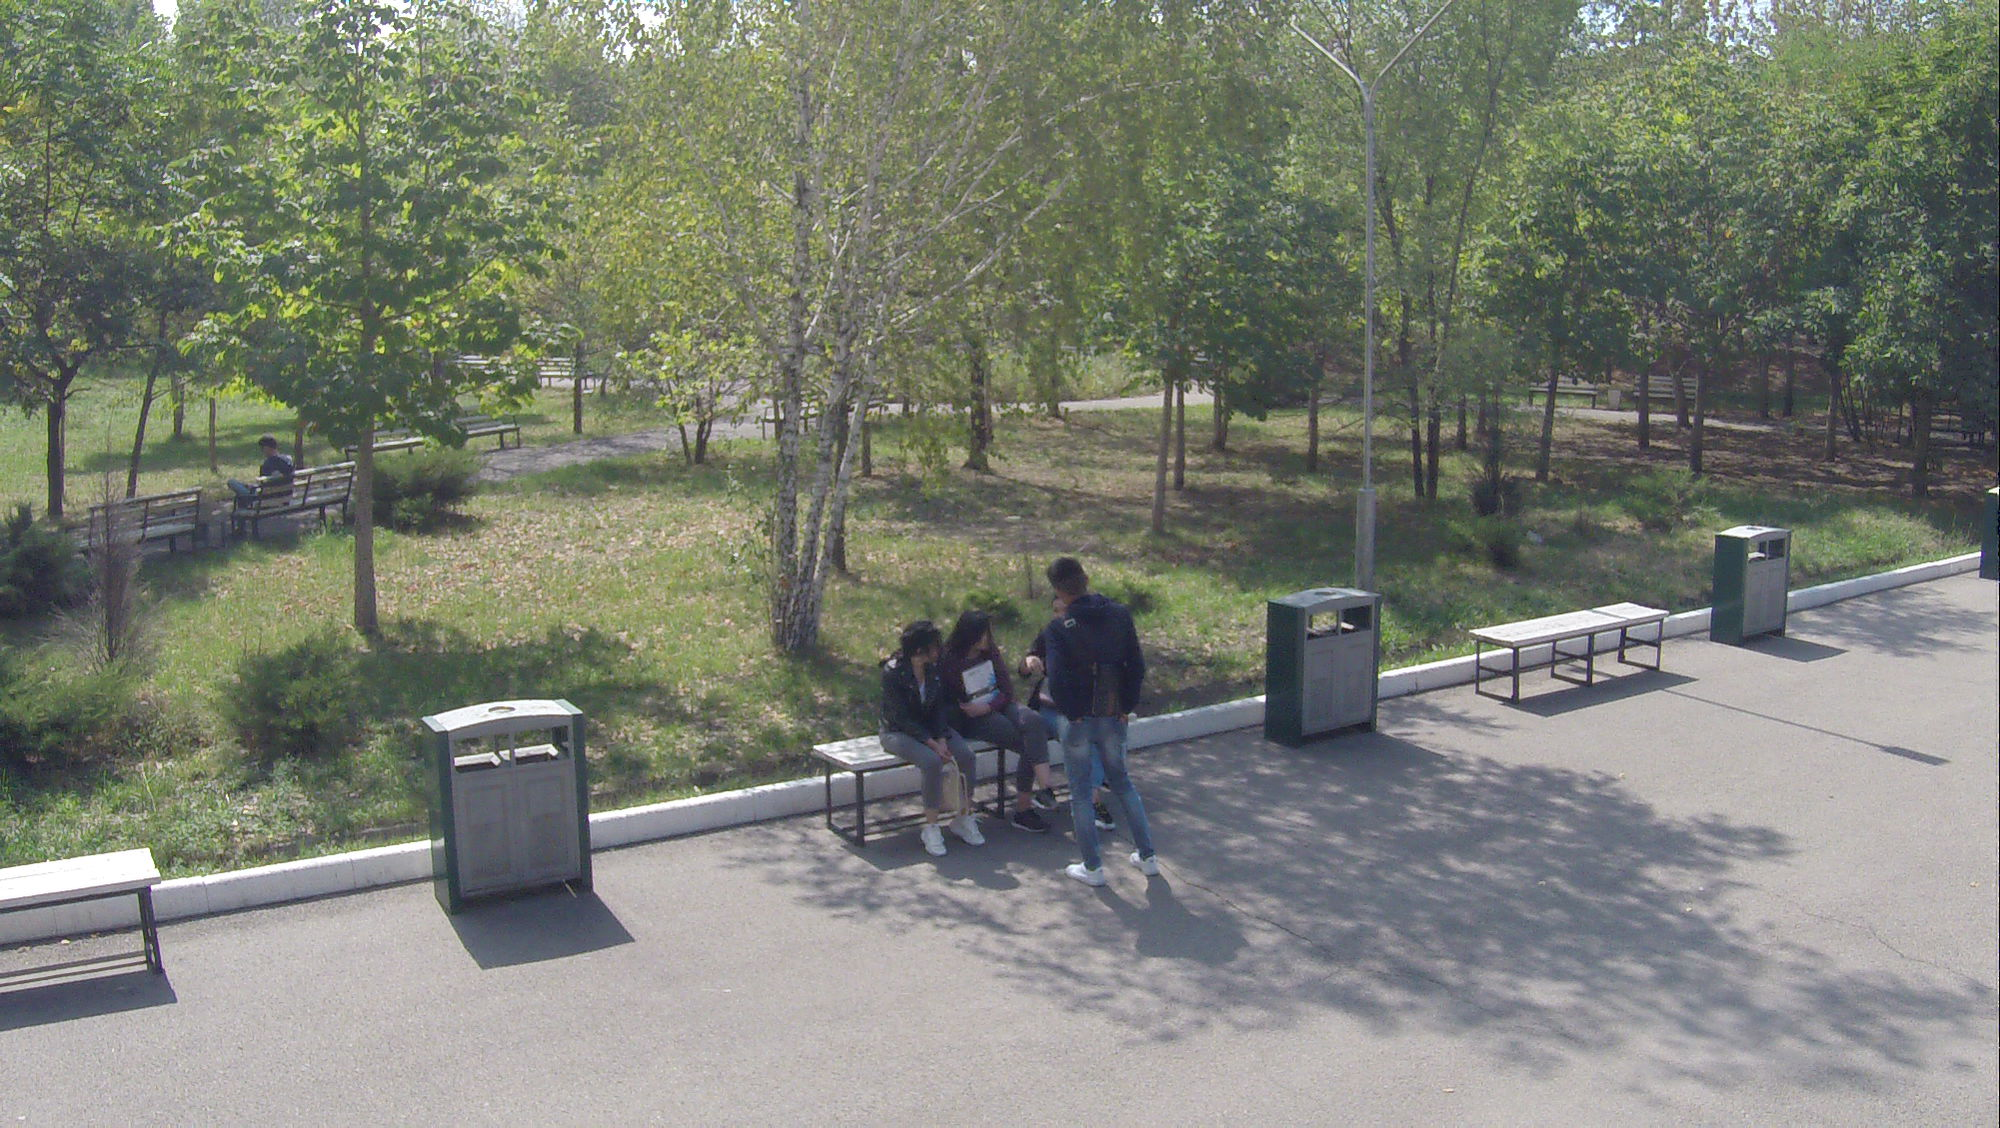person: (1043, 551, 1174, 895), (878, 614, 989, 862), (951, 599, 1055, 839), (222, 428, 289, 541)
